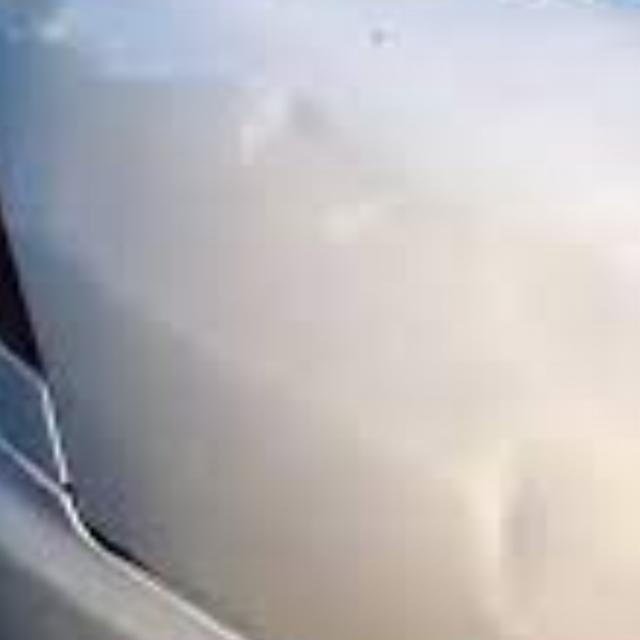dents: (464, 441, 570, 621), (250, 79, 340, 199)
